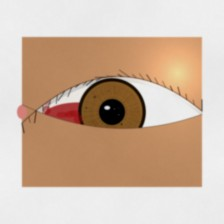hemorrhage_spot: (31, 78, 125, 154)
